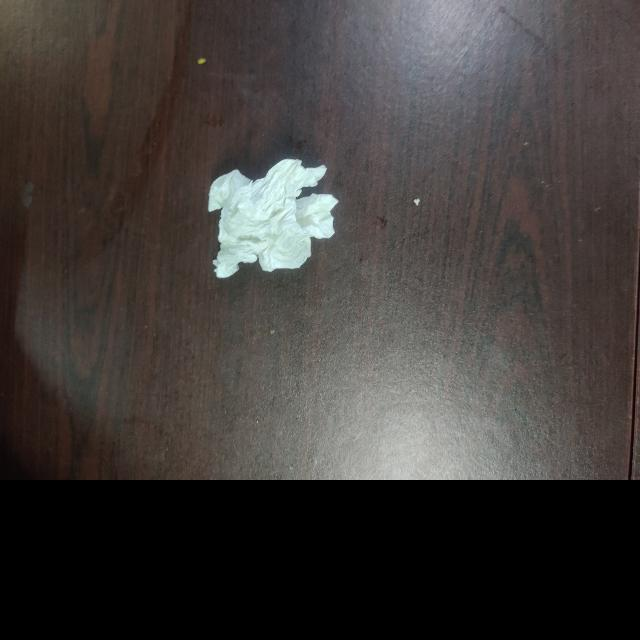kitchen paper: (205, 154, 341, 281)
